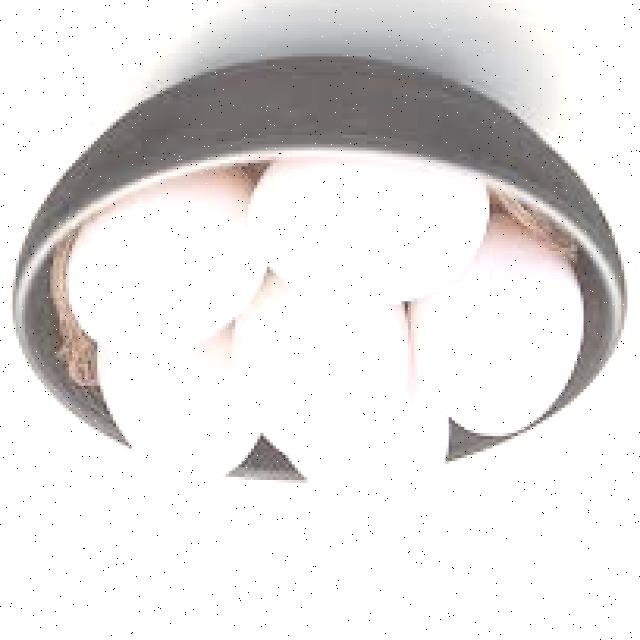White Egg: (50, 166, 276, 360), (246, 150, 494, 313), (408, 224, 585, 440), (229, 264, 399, 456)
